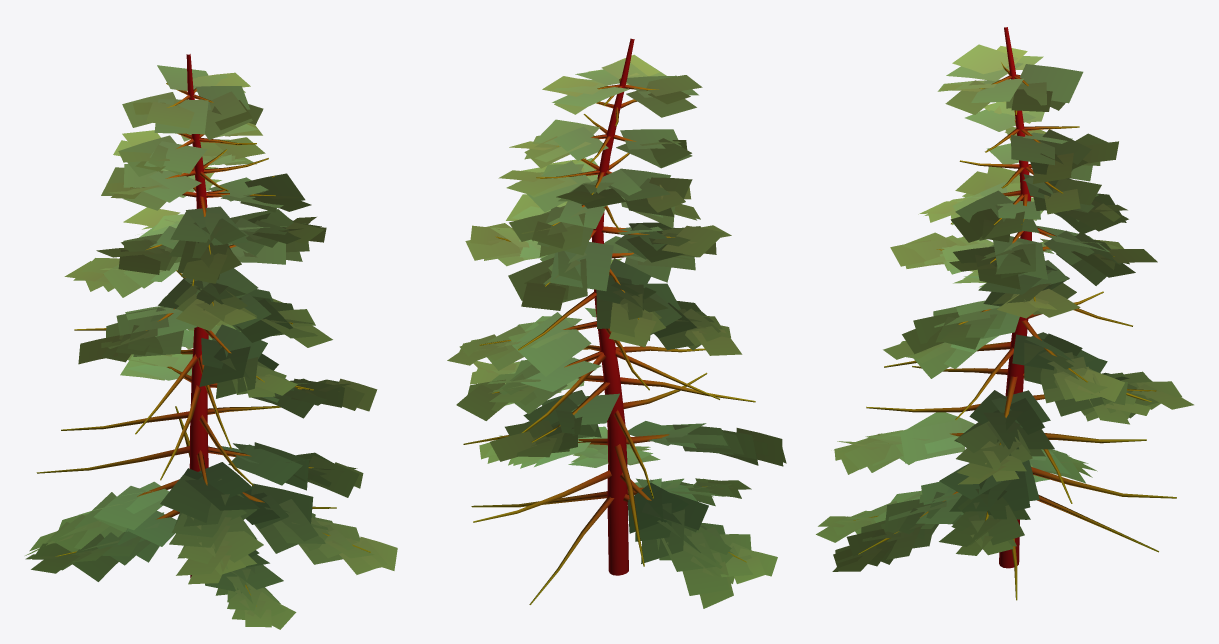
The model's file is young_spruce_b.glb.
The picture shows the model from 3 angles, left to right: view 1: azimuth 30°, elevation 25°; view 2: azimuth 150°, elevation 25°; view 3: azimuth 270°, elevation 25°; orthographic projection.
Parts seen in each view (by area): view 1: LOD0; view 2: LOD0; view 3: LOD0.
Part boxes in pixels (x1=…): LOD0: x1=25, y1=54, x2=397, y2=629; LOD0: x1=447, y1=38, x2=786, y2=608; LOD0: x1=816, y1=27, x2=1193, y2=600.
Size of what is drawn, in the model's own units: 2.78 by 4.36 by 2.79.
